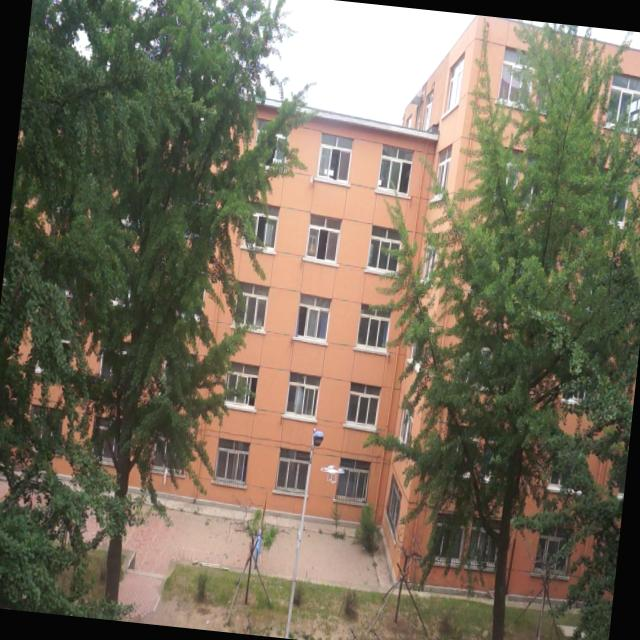drone: (315, 460, 348, 487)
